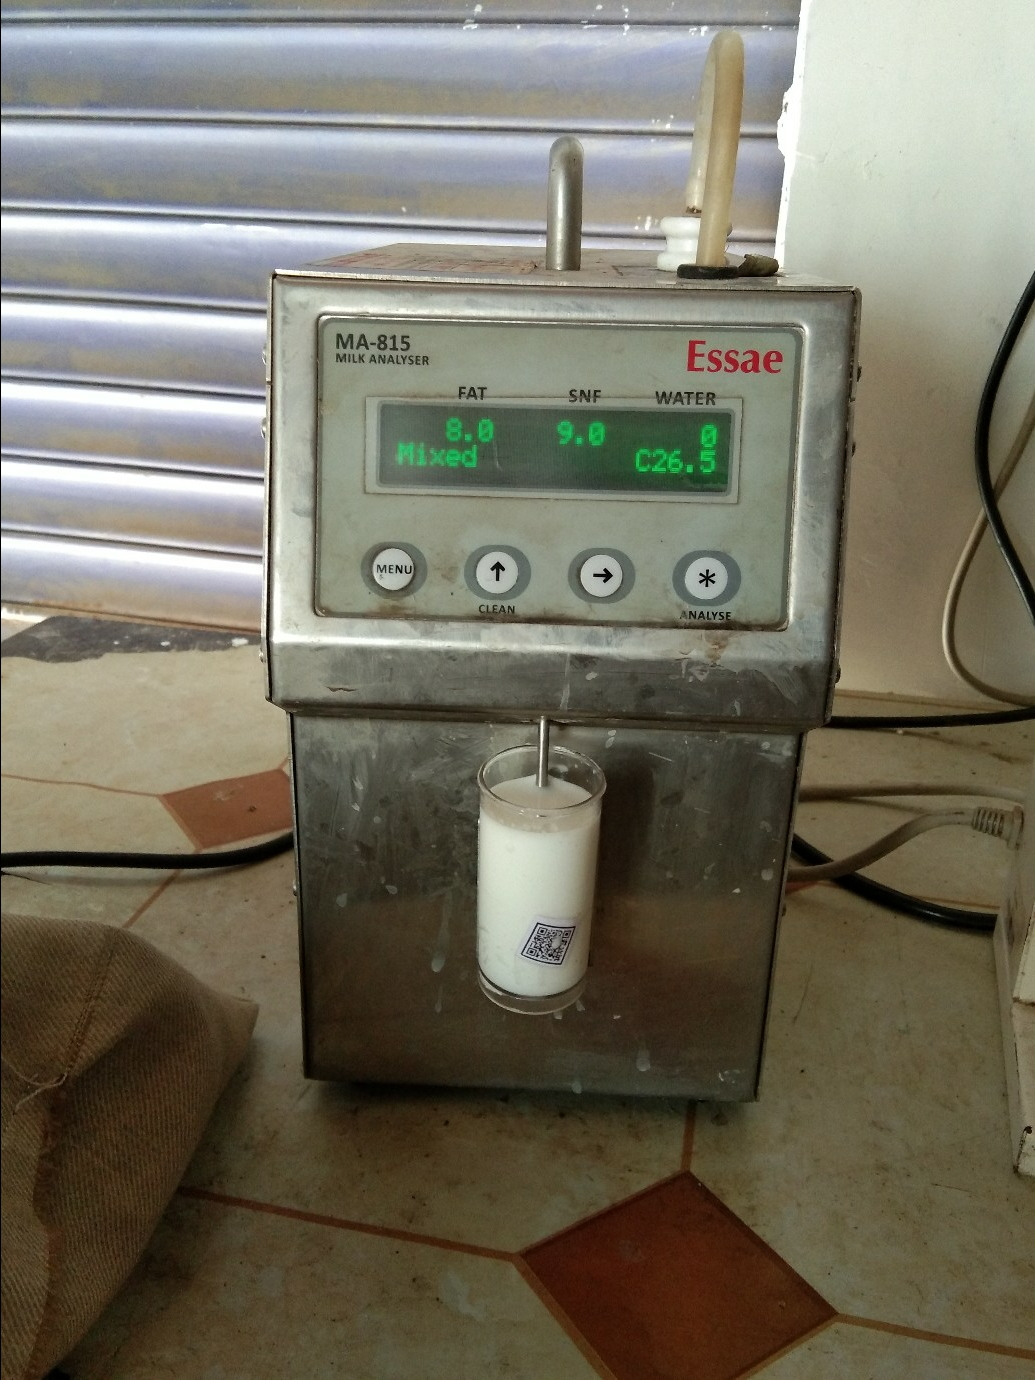lcd: (363, 396, 746, 509)
qr: (510, 913, 591, 974)
